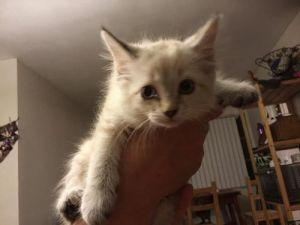siamese: (98, 12, 226, 135)
